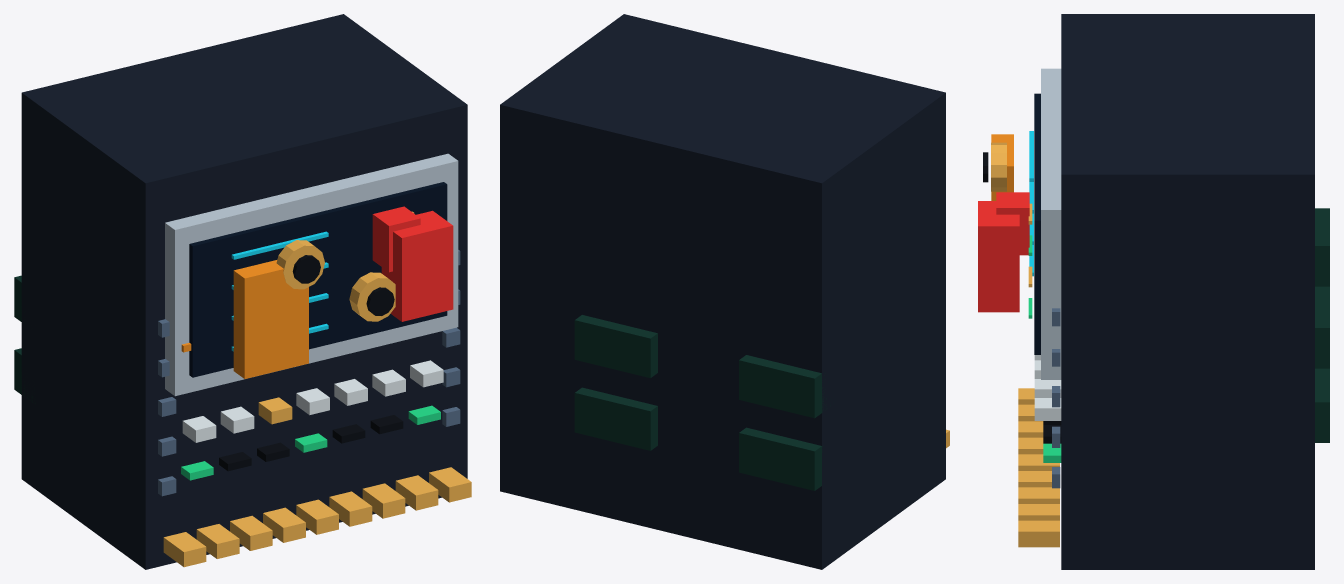
File: 85_L91_TelescopeGimbalJamTest.fbx
The picture shows the model from 3 angles, left to right: view 1: azimuth 30°, elevation 25°; view 2: azimuth 150°, elevation 25°; view 3: azimuth 270°, elevation 25°; orthographic projection. The views are drawn at different scales.
Visible parts, largest first — view 1: L91_TelescopeGimbalJamTest, L91_TelescopeGimbalJamTest_Part_0013, L91_TelescopeGimbalJamTest_Part_0017, L91_TelescopeGimbalJamTest_Part_0015, L91_TelescopeGimbalJamTest_Part_0016, L91_TelescopeGimbalJamTest_Part_0018; view 2: L91_TelescopeGimbalJamTest; view 3: L91_TelescopeGimbalJamTest, L91_TelescopeGimbalJamTest_Part_0013, L91_TelescopeGimbalJamTest_Part_0015.
Boxes of the visible parts, <box> form: L91_TelescopeGimbalJamTest: <box>14,14,471,569</box>; L91_TelescopeGimbalJamTest_Part_0013: <box>381,210,453,321</box>; L91_TelescopeGimbalJamTest_Part_0017: <box>349,272,395,321</box>; L91_TelescopeGimbalJamTest_Part_0015: <box>276,240,324,289</box>; L91_TelescopeGimbalJamTest_Part_0016: <box>292,255,320,283</box>; L91_TelescopeGimbalJamTest_Part_0018: <box>366,287,394,315</box>; L91_TelescopeGimbalJamTest: <box>500,14,949,569</box>; L91_TelescopeGimbalJamTest: <box>991,14,1329,569</box>; L91_TelescopeGimbalJamTest_Part_0013: <box>978,201,1019,312</box>; L91_TelescopeGimbalJamTest_Part_0015: <box>991,142,1006,191</box>.
Bounding box in the file's own units: 100 × 115 × 92.93.
